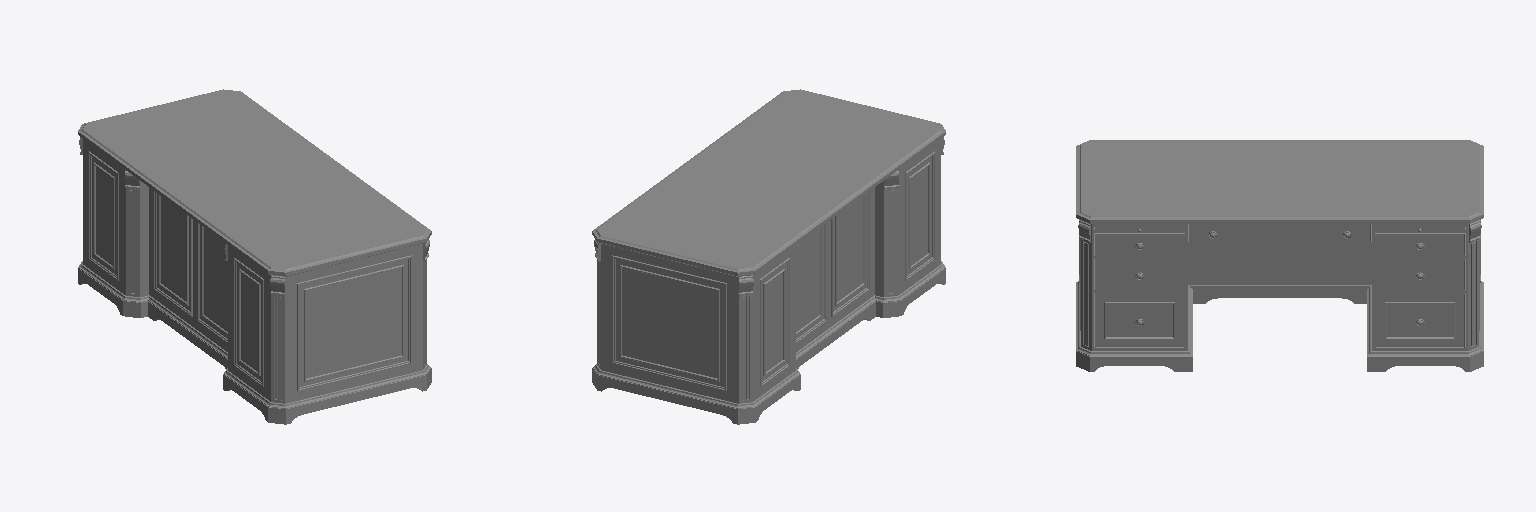
File: desk.obj
3 views of the same model, side by side, from view 1: azimuth 30°, elevation 25°; view 2: azimuth 150°, elevation 25°; view 3: azimuth 270°, elevation 25° (orthographic).
Visible parts, largest first — view 1: 10240_Office_Desk_v3_max2011; view 2: 10240_Office_Desk_v3_max2011; view 3: 10240_Office_Desk_v3_max2011.
Boxes of the visible parts, x1,y1,x2,y2 form: 10240_Office_Desk_v3_max2011: [78, 89, 431, 424]; 10240_Office_Desk_v3_max2011: [592, 89, 945, 424]; 10240_Office_Desk_v3_max2011: [1076, 140, 1483, 371].
Size of the model in its own units: 1.22 by 1.08 by 2.59.